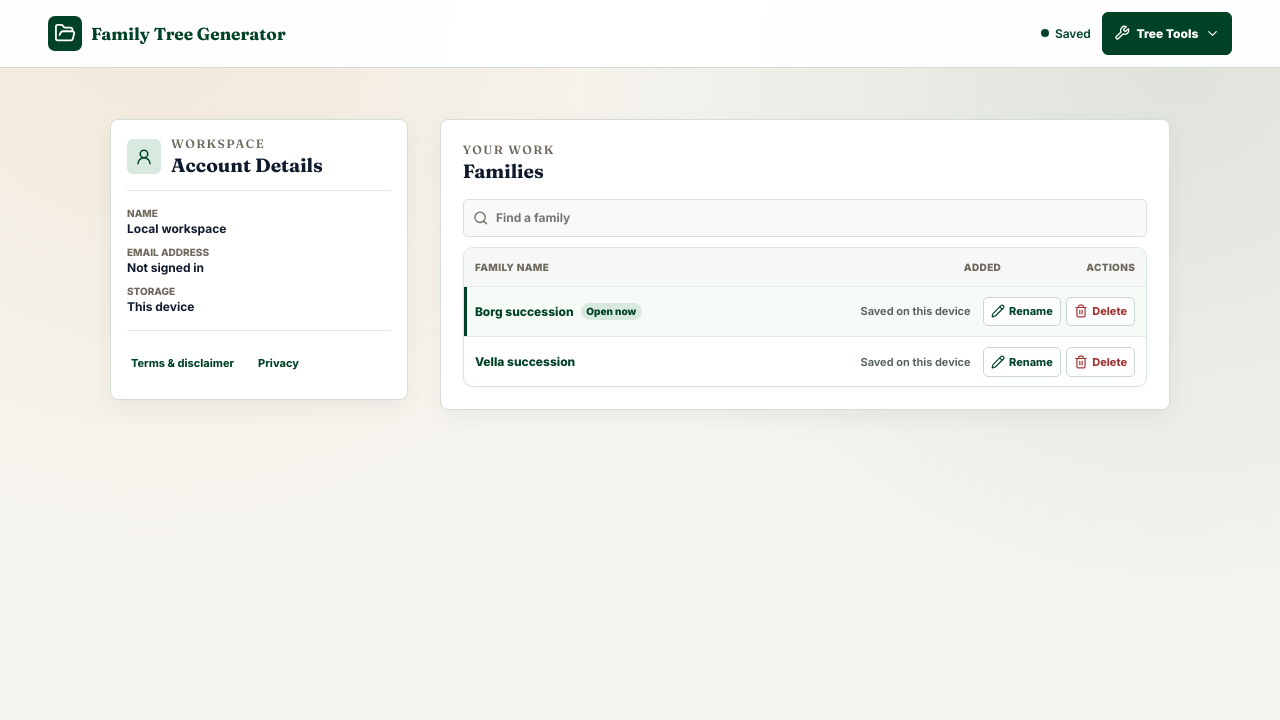
Test: App local recovery › restores the active tree and lets the user reopen another saved tree
The width and height of the screenshot is (1280, 720).
Click the button with class "family-name-button" showing "Borg succession Open now".
click(524, 311)  # box x1=475 y1=303 x2=850 y2=320
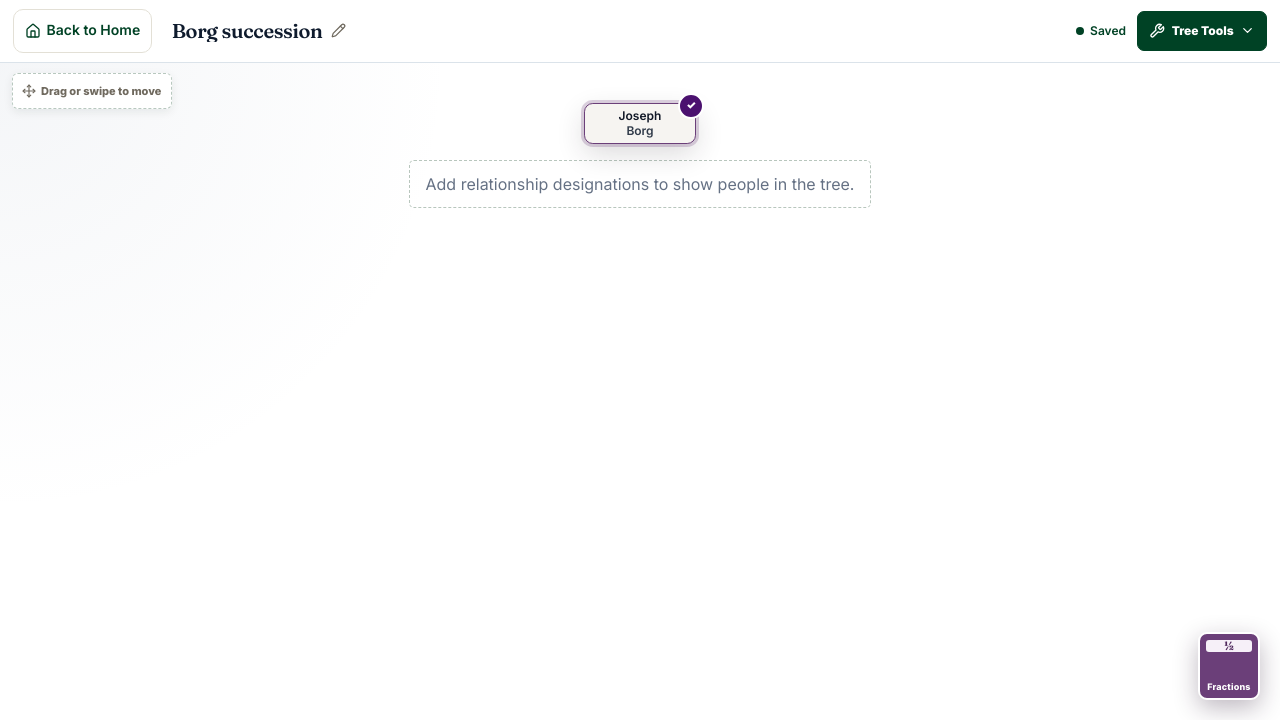
Check: the button "Borg succession" is shown, box x1=164 y1=10 x2=1076 y2=51
Check: the text with class "family-node-name" reads "Joseph", box x1=619 y1=108 x2=661 y2=123
Check: the text with class "family-node-surname" reads "Borg", box x1=626 y1=122 x2=654 y2=138
Click the button "Joseph Borg".
click(640, 124)  # box x1=584 y1=103 x2=696 y2=144
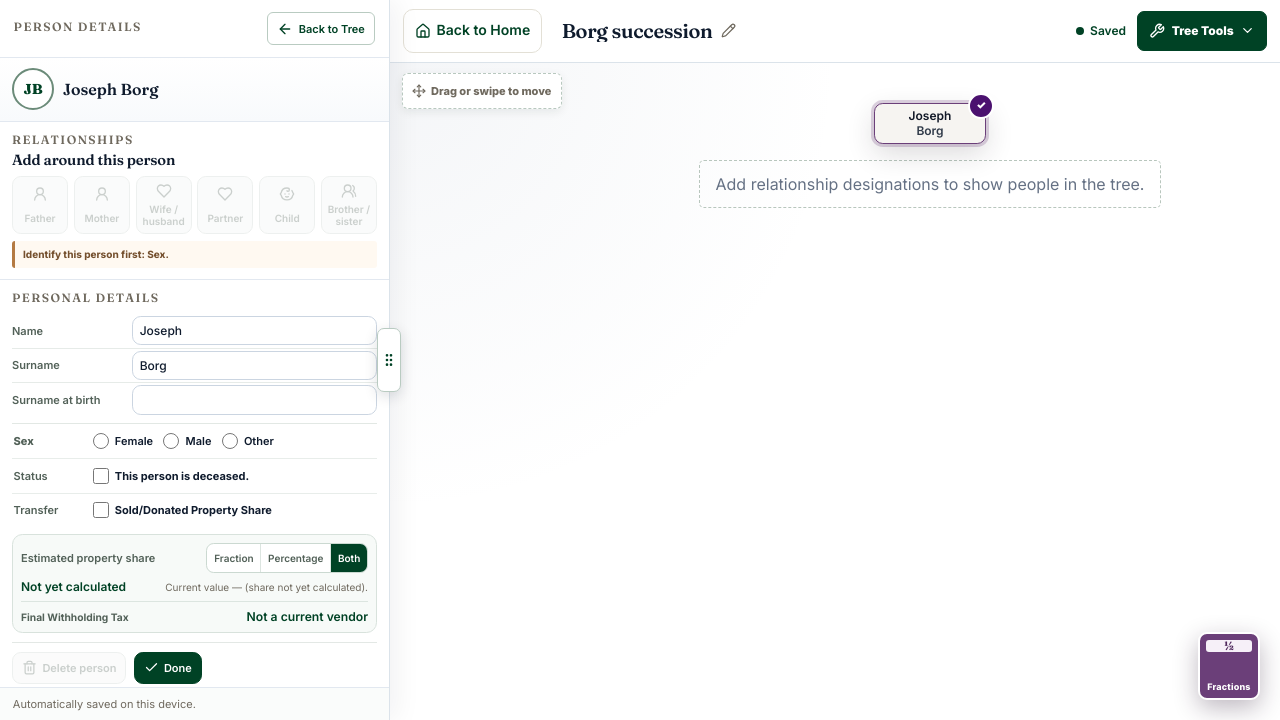
Click the button "Back to Tree".
click(321, 28)  # box x1=267 y1=12 x2=375 y2=45
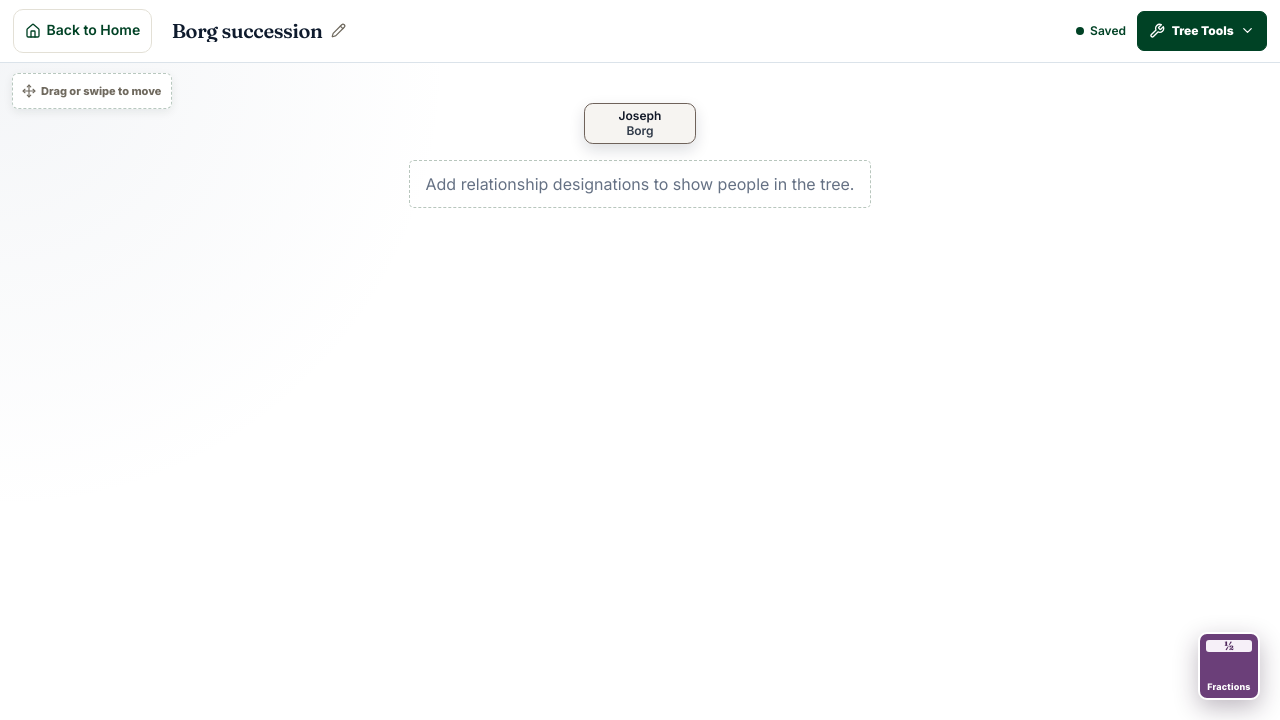
Check: the element with class "context-dashboard" is gone
Click the button "Back to Home".
click(83, 31)  # box x1=13 y1=9 x2=152 y2=53
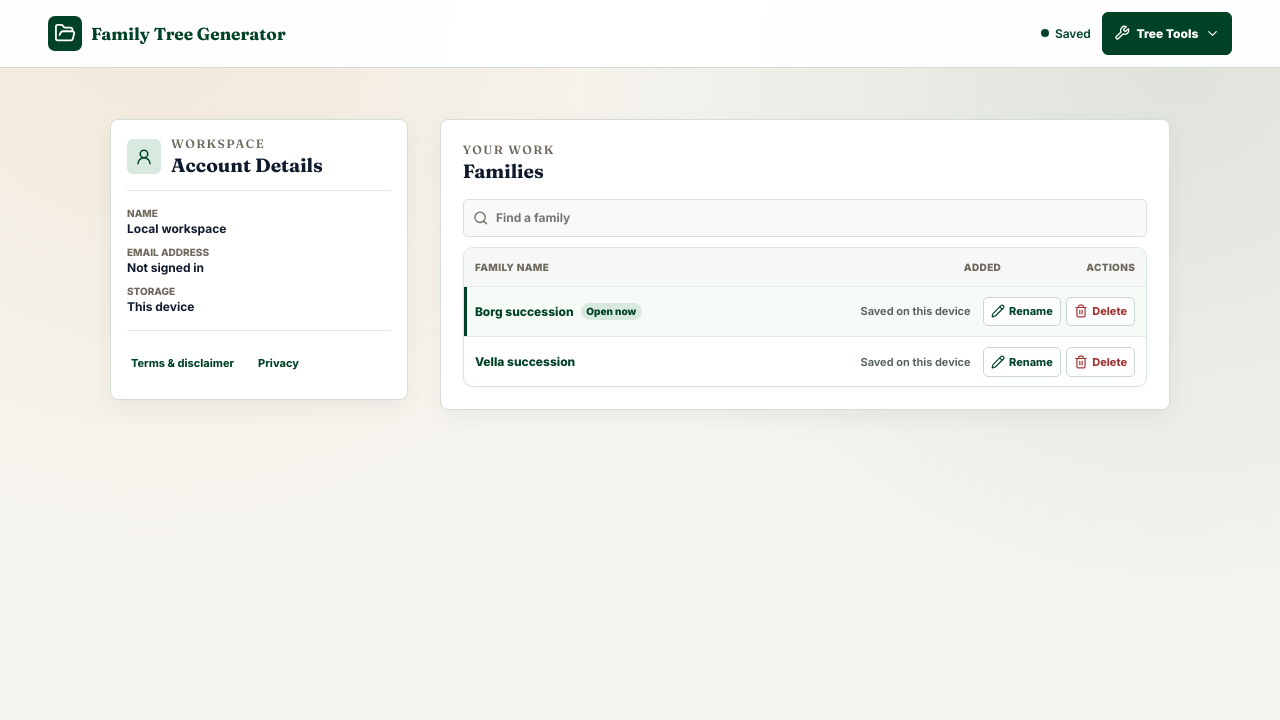
Click the button with class "family-name-button" showing "Vella succession".
click(525, 362)  # box x1=475 y1=354 x2=850 y2=369
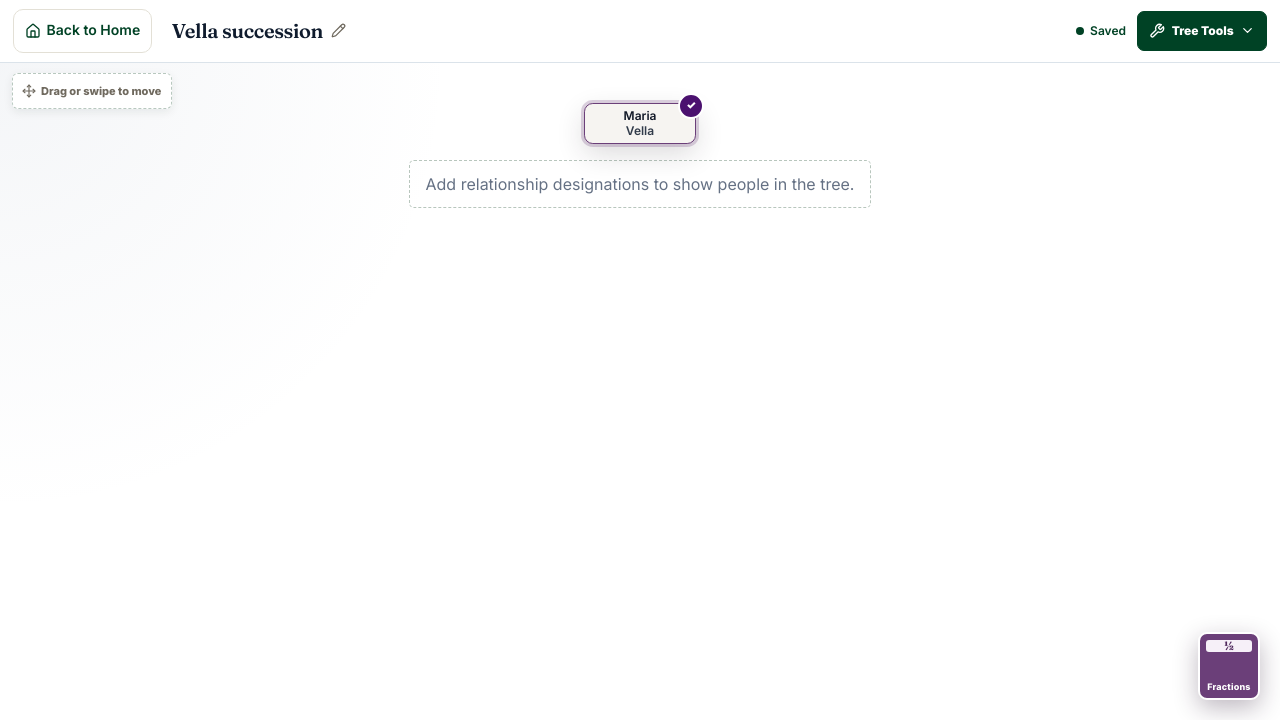
Check: the button "Vella succession" is shown, box x1=164 y1=10 x2=1076 y2=51
Check: the text with class "family-node-name" reads "Maria", box x1=624 y1=108 x2=656 y2=123
Check: the text with class "family-node-surname" reads "Vella", box x1=626 y1=122 x2=654 y2=138
